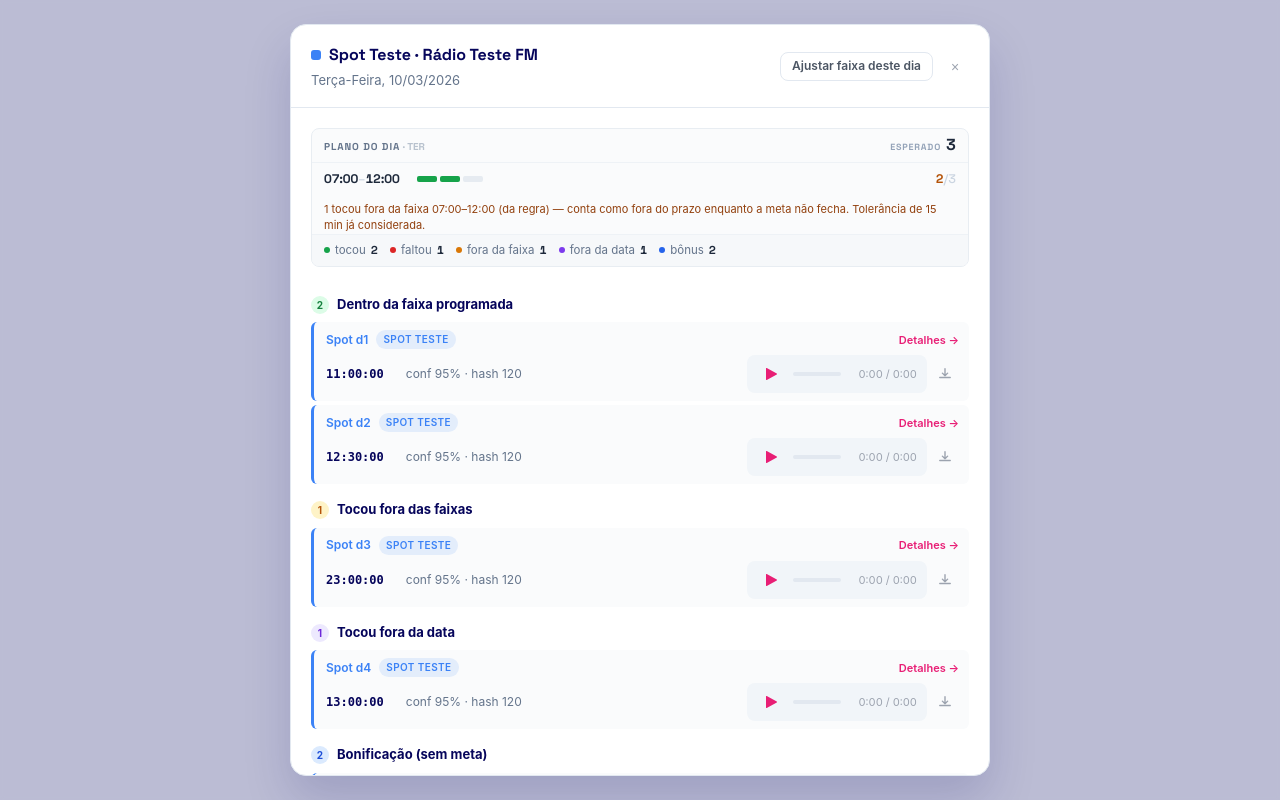
Test: DayDetailModal — ajuste do dia (override) › Aplicar envia o payload FLAT com campanha, tipo, emissora, data, meta e faixa
Expected: the text "Spot d1" is shown, [326,331,368,349]
Click the button "Ajustar faixa deste dia". click: (857, 67)
box: [780,52,933,81]
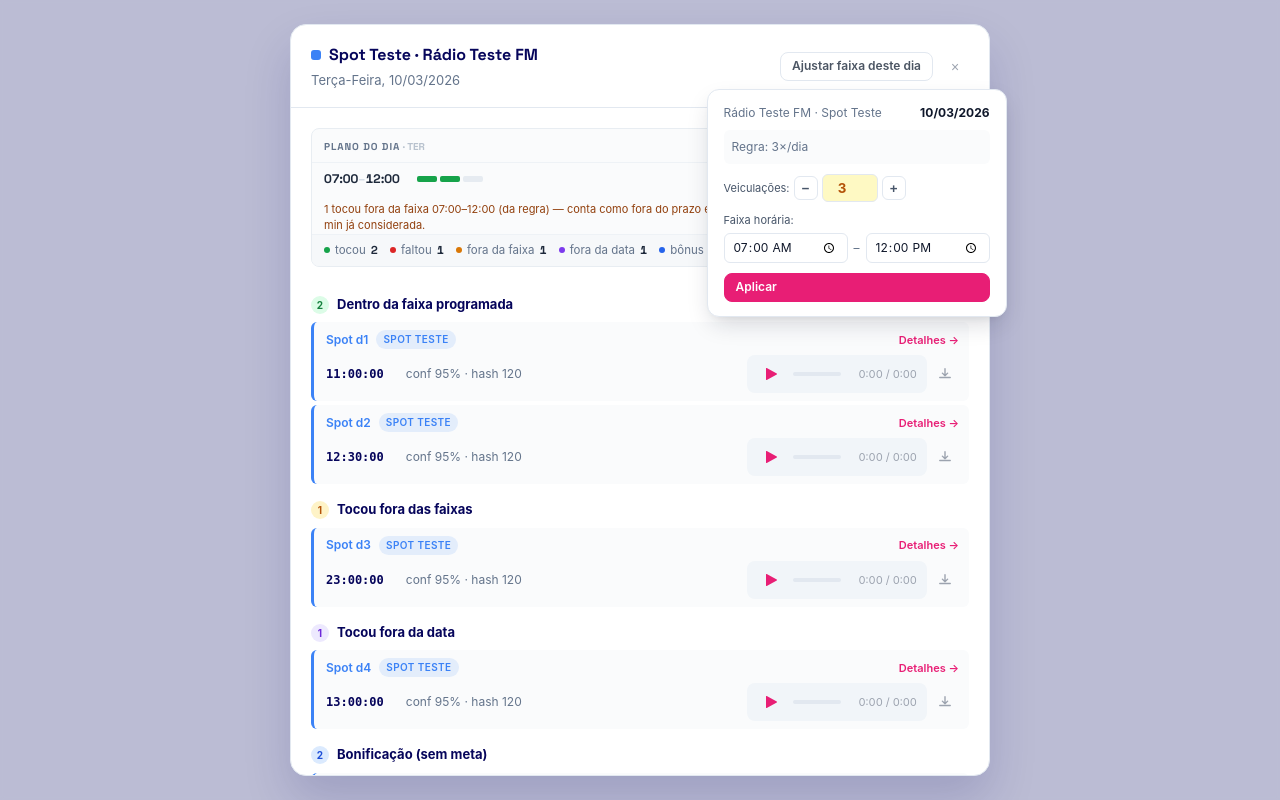
Expected: the text "Regra: 3×/dia" is shown, [732,138,808,156]
Click the button "+". click: (894, 188)
box: [882,176,906,200]
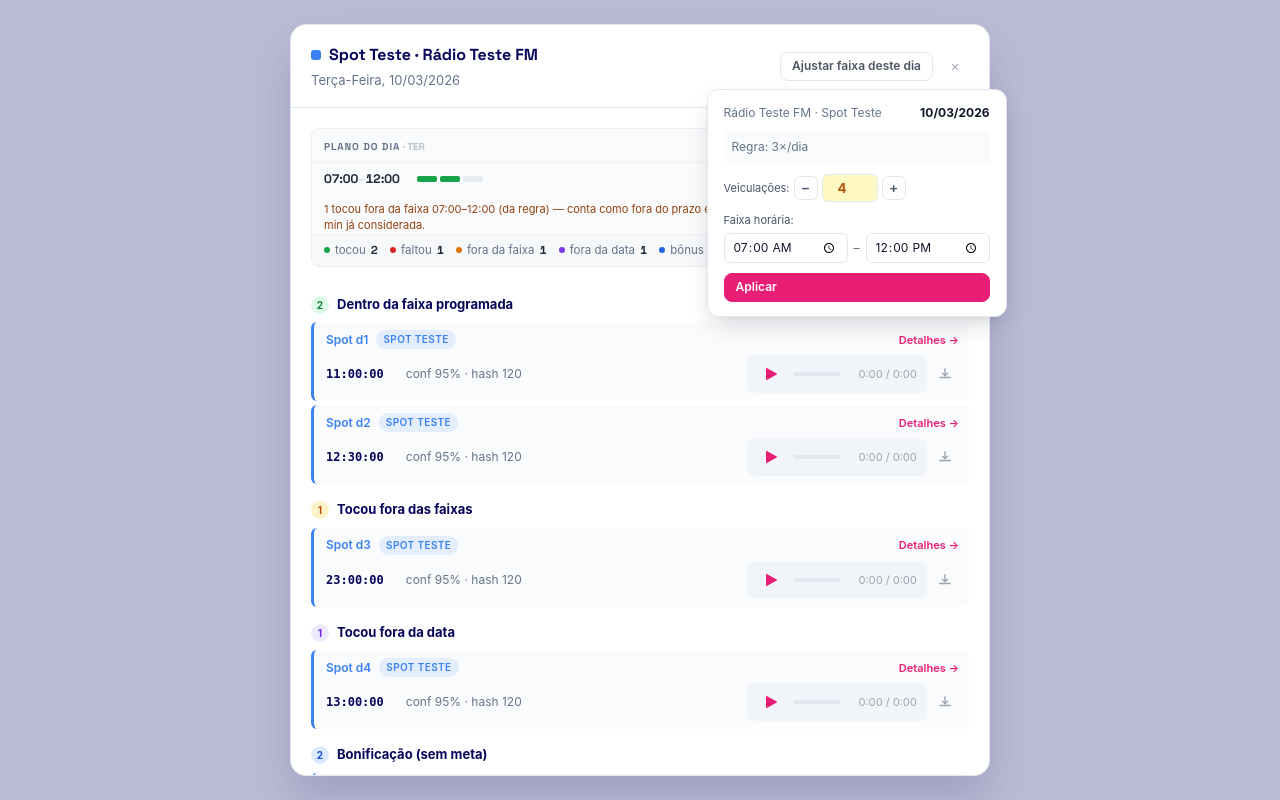
Click the button "Aplicar". click: (756, 287)
box: [724,273,990,302]
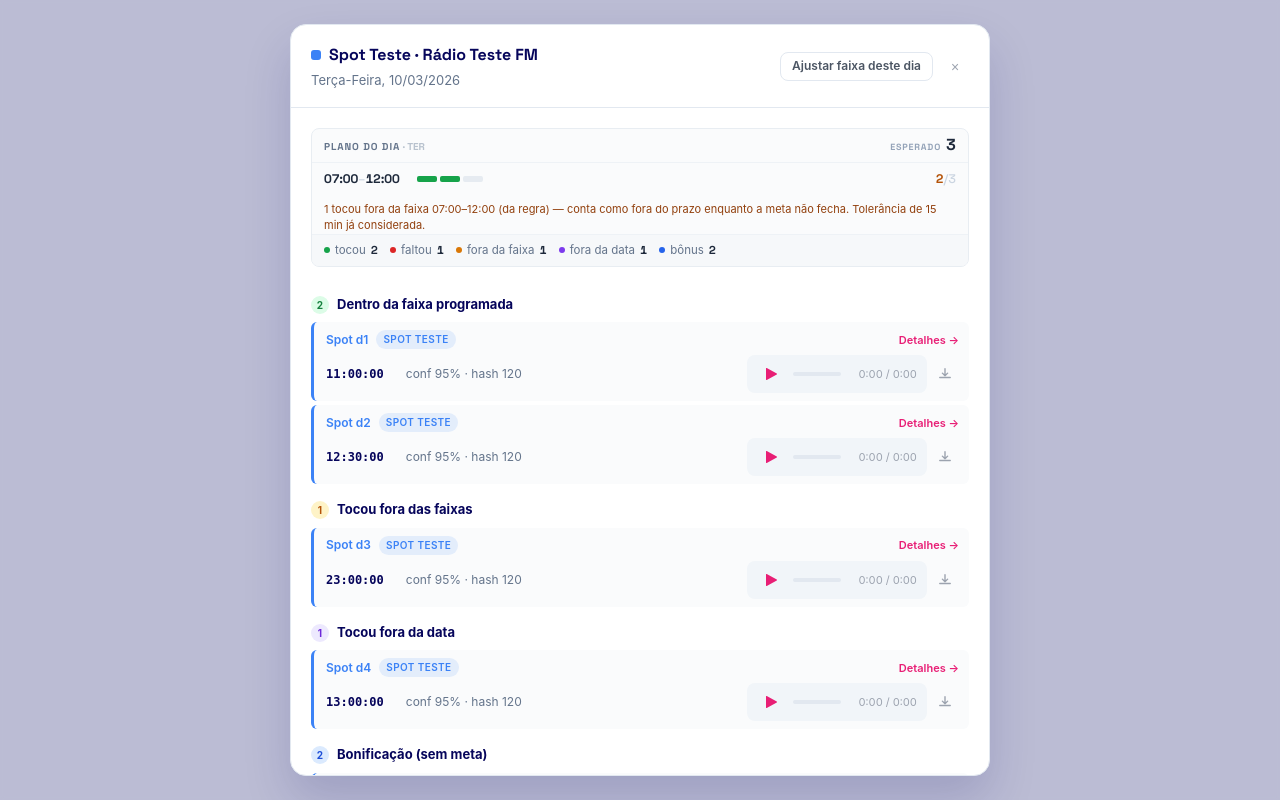
Expected: the button "Aplicar" is gone
